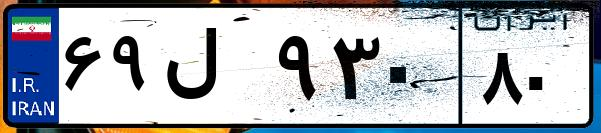0: (385, 28, 445, 110), (525, 38, 570, 115)
3: (330, 28, 385, 110)
6: (57, 26, 110, 100)
8: (475, 38, 525, 113)
9: (270, 28, 330, 110), (110, 28, 158, 98)
ل: (158, 20, 270, 120)
